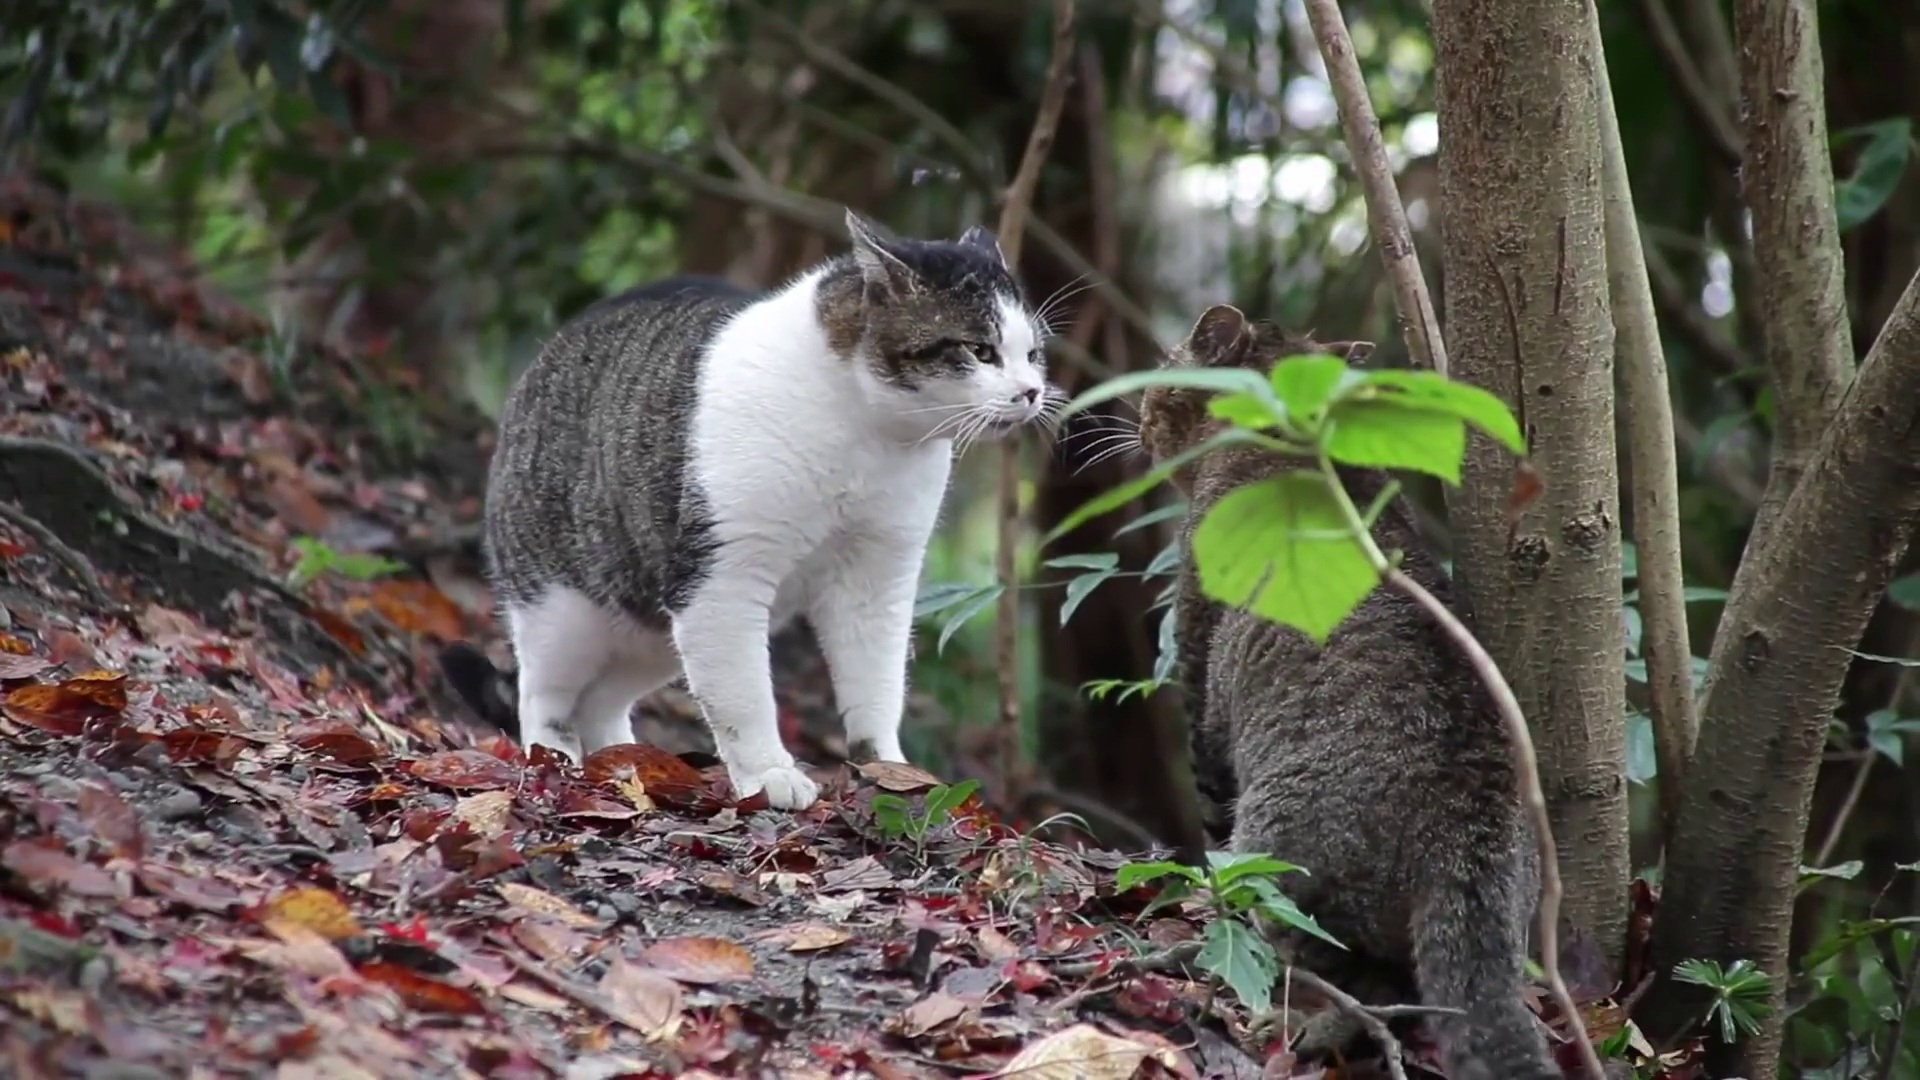black-white: (483, 206, 1047, 807)
pure black: (1141, 305, 1549, 1080)
